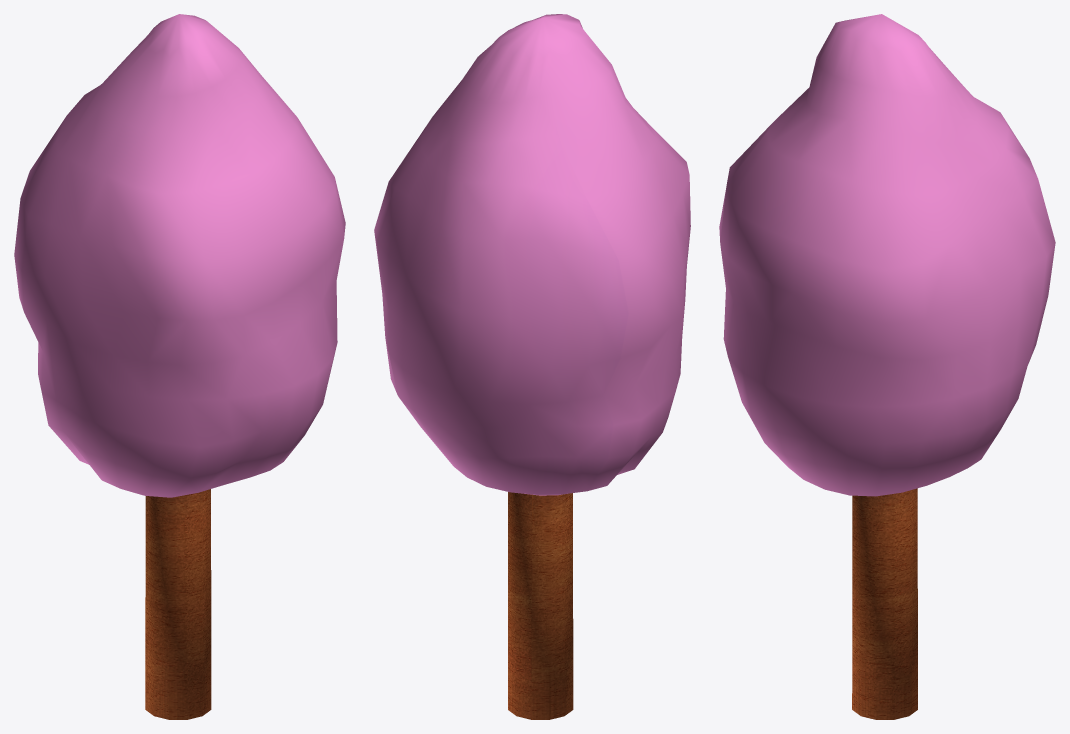
The model's file is Cottoncandy Tree.fbx.
3 views of the same model, side by side, from view 1: azimuth 30°, elevation 25°; view 2: azimuth 150°, elevation 25°; view 3: azimuth 270°, elevation 25° (orthographic).
Visible parts, largest first — view 1: Cottoncandy; view 2: Cottoncandy; view 3: Cottoncandy.
Boxes of the visible parts, x1=… form: Cottoncandy: x1=14, y1=14, x2=345, y2=719; Cottoncandy: x1=374, y1=14, x2=690, y2=719; Cottoncandy: x1=719, y1=14, x2=1055, y2=719.
Size of the model in its own units: 1.23 by 2.8 by 1.24.
Materials: 1 (1 with a texture image).
